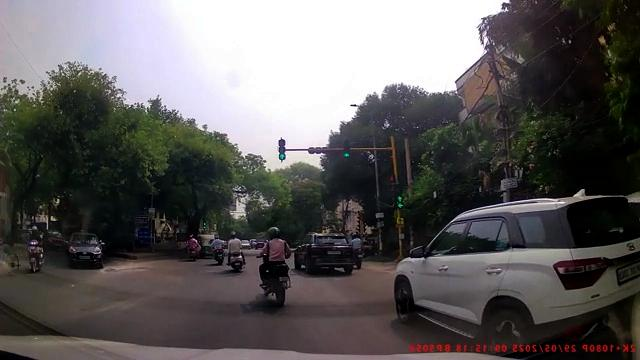motorcycle_with_helmet: (258, 225, 292, 306), (226, 230, 245, 272)
